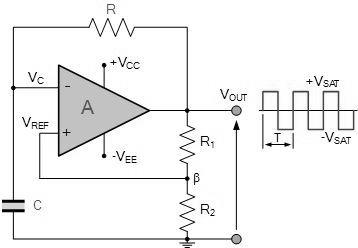amplifier: (53, 62, 153, 160)
cap1: (1, 196, 28, 216)
res2: (84, 17, 140, 41), (177, 122, 198, 168), (177, 190, 198, 234)
